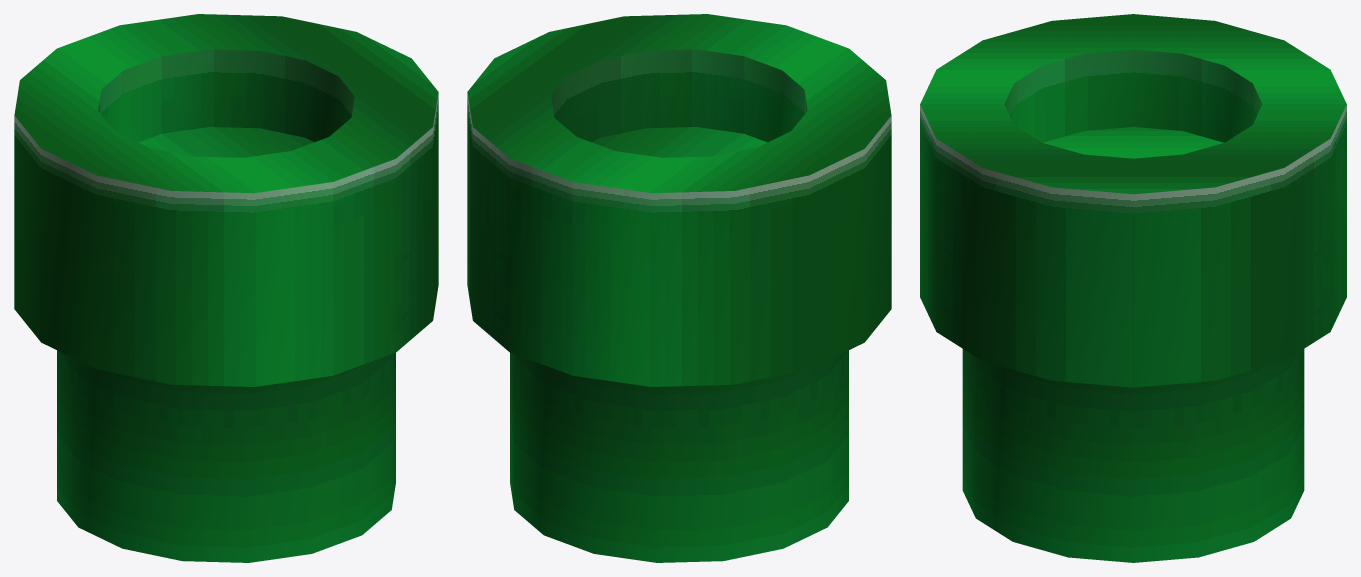
Rendered from warppipe.obj.
3 views of the same model, side by side, from view 1: azimuth 30°, elevation 25°; view 2: azimuth 150°, elevation 25°; view 3: azimuth 270°, elevation 25° (orthographic).
Visible parts, largest first — view 1: mesh0164; view 2: mesh0164; view 3: mesh0164.
Part boxes in pixels (bbox=[...]): mesh0164: bbox=[14, 14, 438, 562]; mesh0164: bbox=[467, 14, 891, 562]; mesh0164: bbox=[920, 14, 1346, 562].
Size of the model in its own units: 10 by 10 by 10.
Materials: 1 (1 with a texture image).
